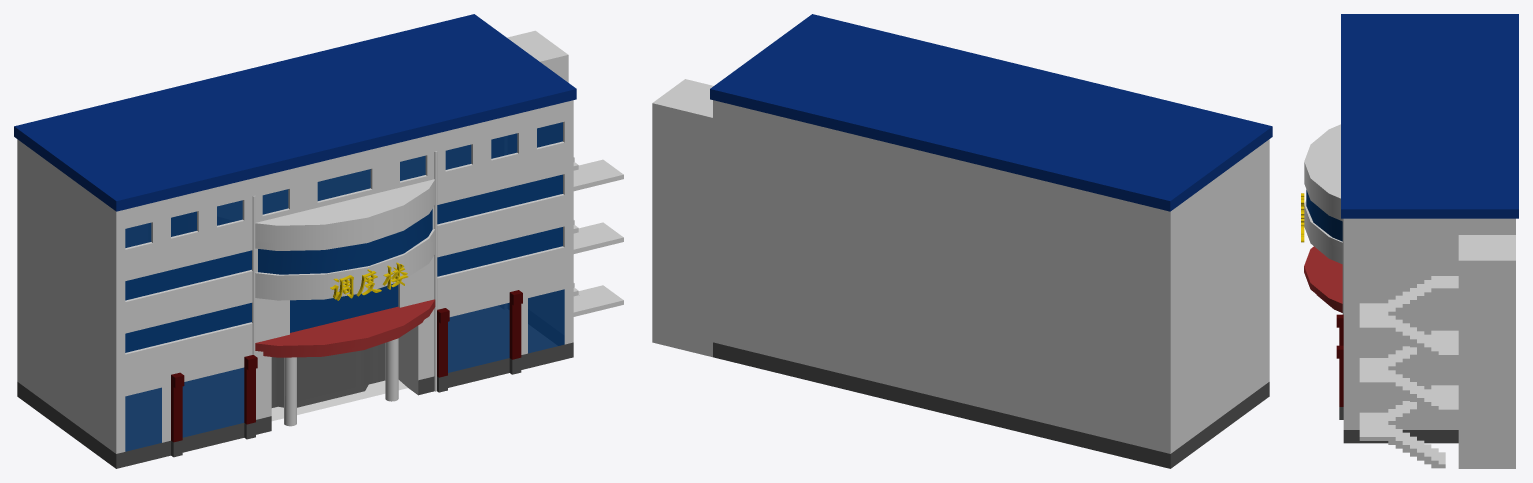
Rendered from diaodulou.fbx.
3 renders of one model, left to right at view 1: azimuth 30°, elevation 25°; view 2: azimuth 150°, elevation 25°; view 3: azimuth 270°, elevation 25°, orthographic. The views are drawn at different scales.
Parts seen in each view (by area): view 1: polySurface1, typeMesh2; view 2: polySurface1; view 3: polySurface1.
Part boxes in pixels (box(x1,y1,x2,y2)): polySurface1: box(14, 14, 623, 468); typeMesh2: box(330, 262, 408, 300); polySurface1: box(652, 14, 1272, 468); polySurface1: box(1304, 14, 1518, 468).
Size of the model in its own units: 36.36 by 18 by 15.17.
